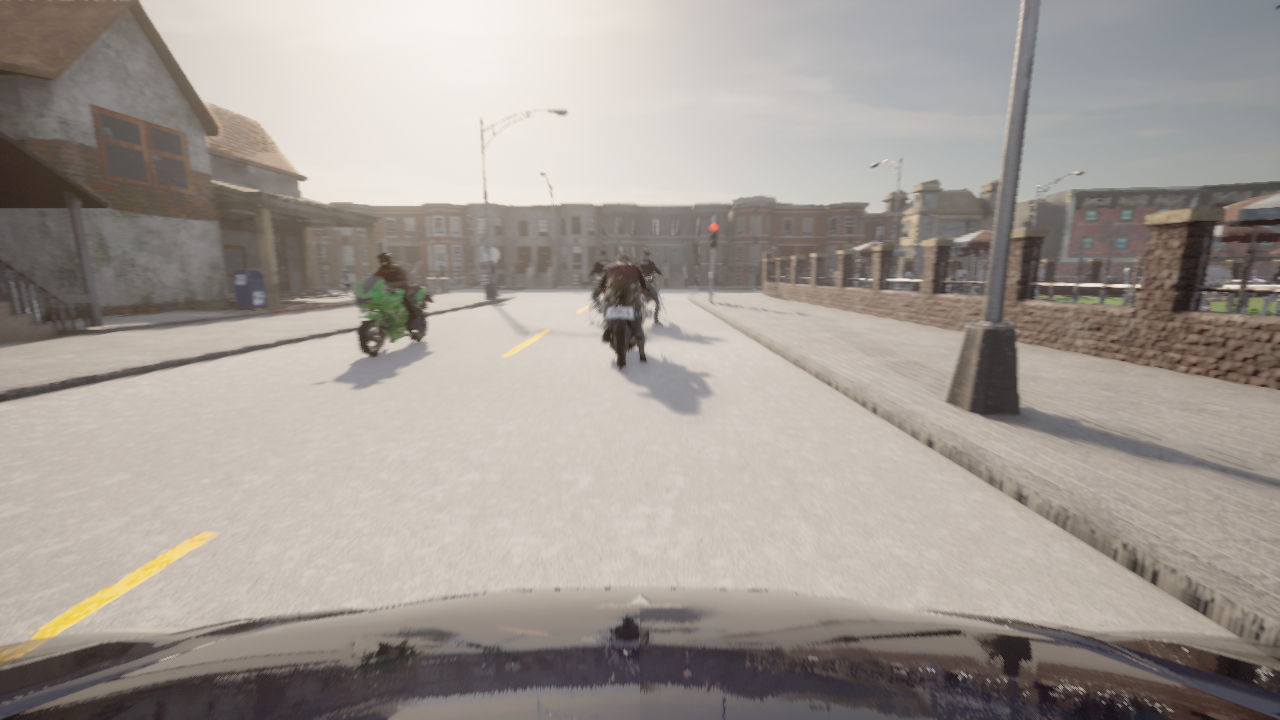cyclist: (0, 588, 1279, 719), (339, 276, 432, 357), (597, 274, 652, 369), (640, 275, 666, 321), (589, 282, 602, 321), (416, 275, 422, 284), (449, 280, 452, 289)
pedestrian: (754, 264, 762, 287), (343, 271, 347, 292)
